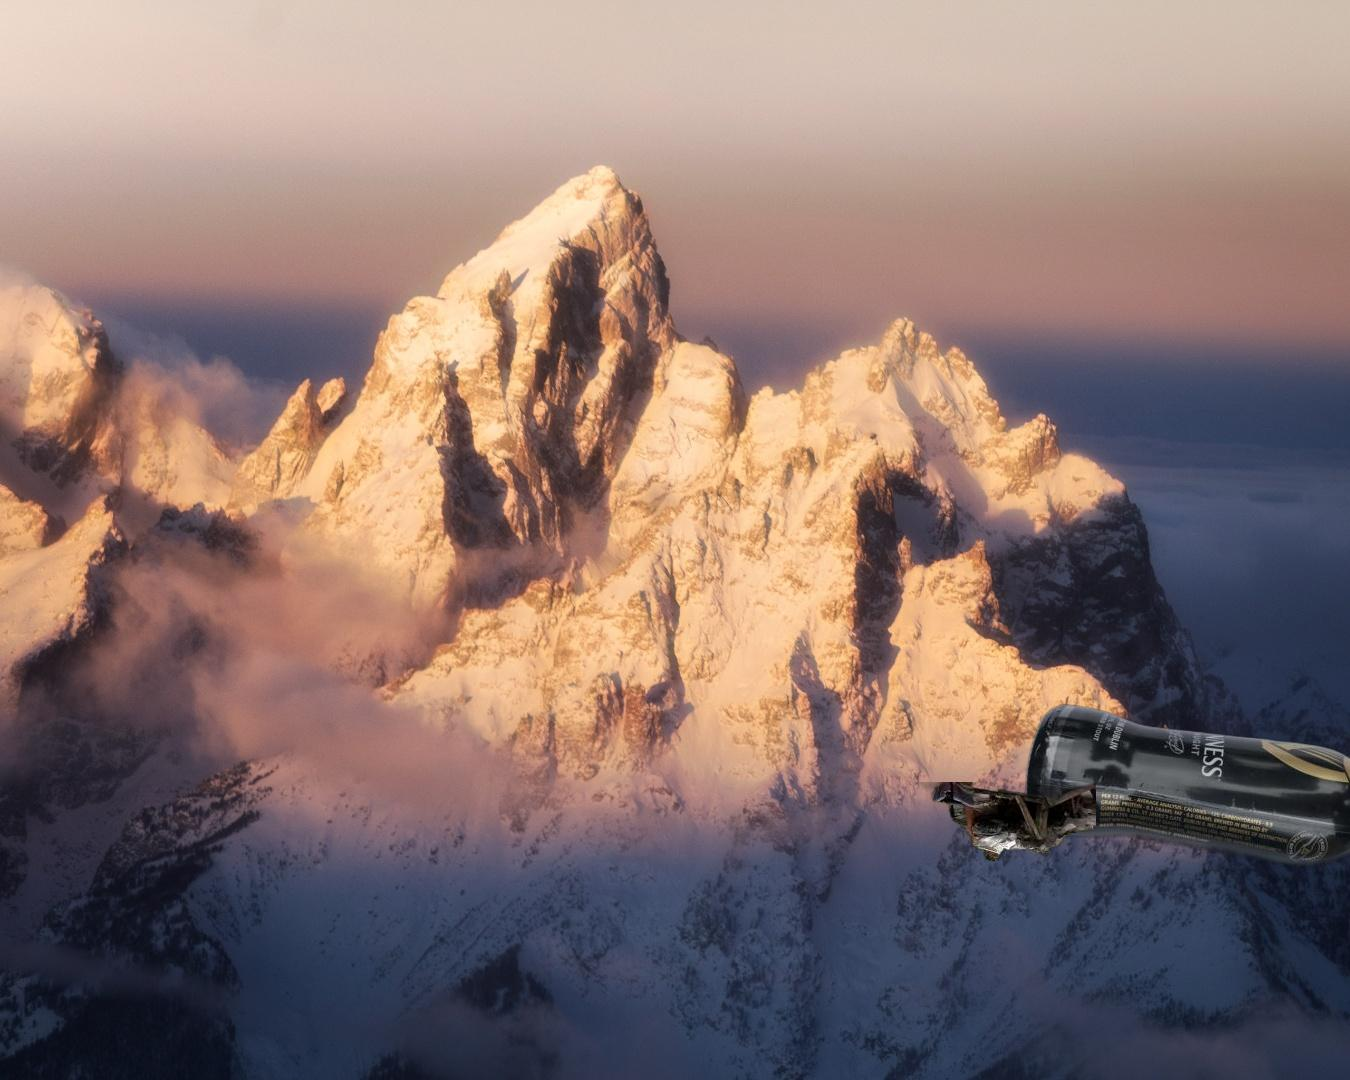biological: (914, 782, 1097, 864)
glass: (1020, 703, 1350, 872)
penholder: (1308, 823, 1350, 1080)
